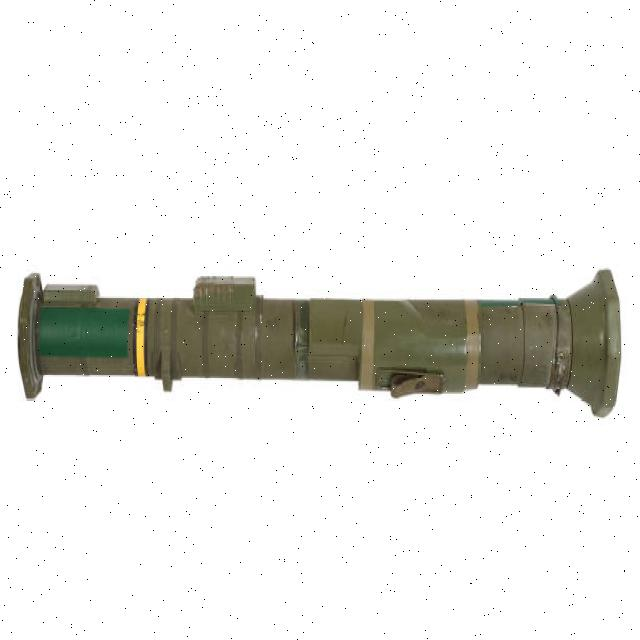bazooka: (8, 245, 629, 427)
